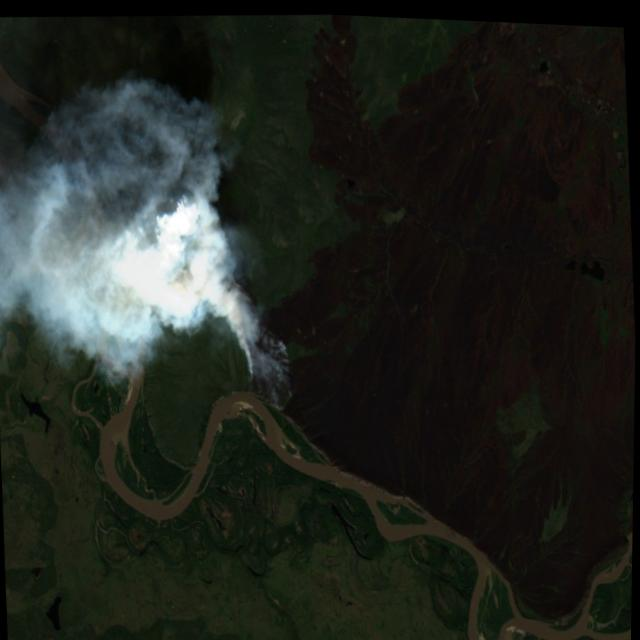fire: (210, 260, 302, 425)
